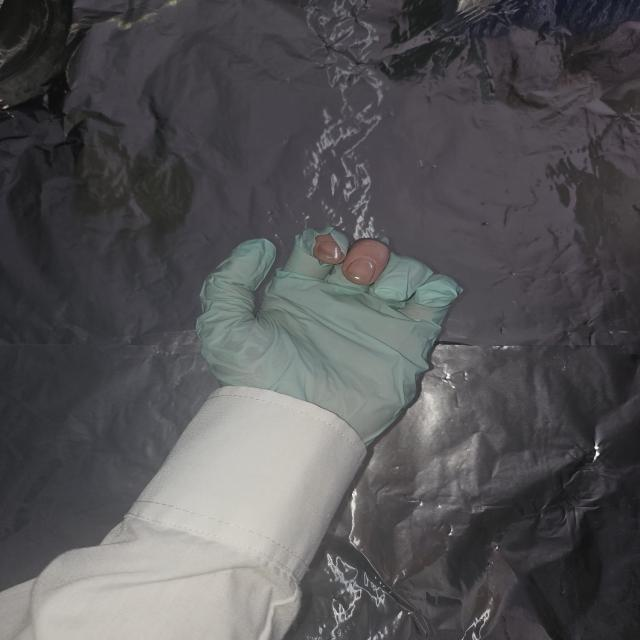gloves_damaged: (192, 222, 464, 448)
